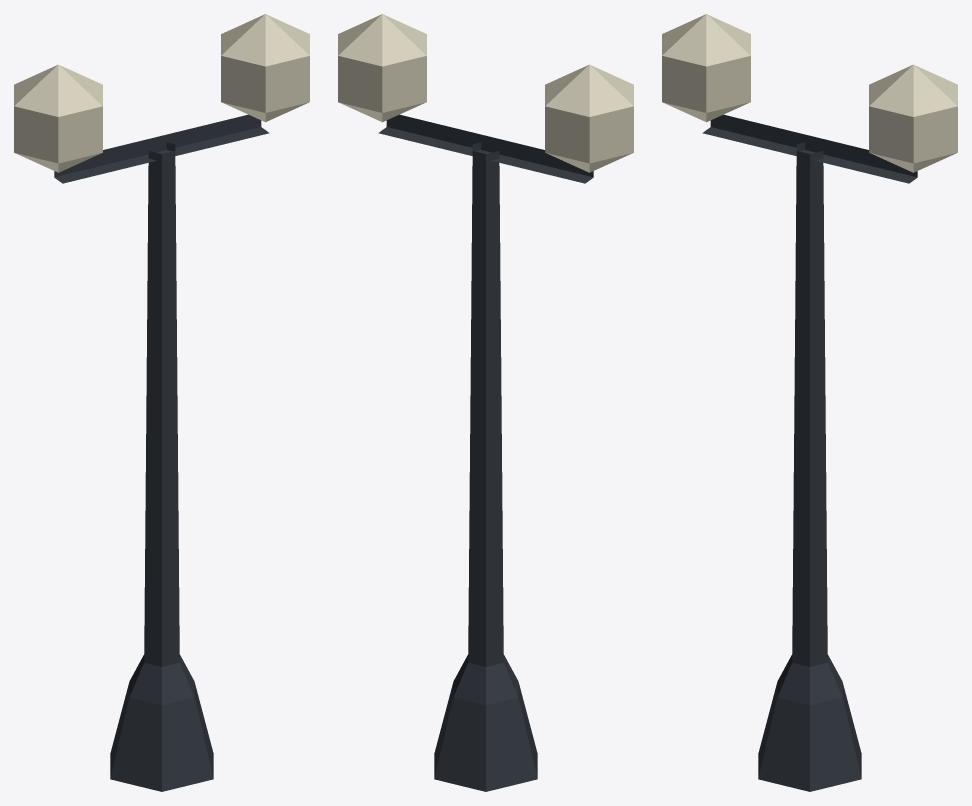
The model's file is lampu-taman.glb.
The picture shows the model from 3 angles, left to right: view 1: azimuth 30°, elevation 25°; view 2: azimuth 150°, elevation 25°; view 3: azimuth 330°, elevation 25°; orthographic projection.
Parts seen in each view (by area): view 1: potongan_lampu-taman; view 2: potongan_lampu-taman; view 3: potongan_lampu-taman.
Boxes of the visible parts, bbox=[...] form: potongan_lampu-taman: bbox=[14, 14, 309, 791]; potongan_lampu-taman: bbox=[338, 14, 633, 791]; potongan_lampu-taman: bbox=[662, 14, 957, 791].
Bounding box in the file's own units: 2 × 4.7 × 0.6062.
